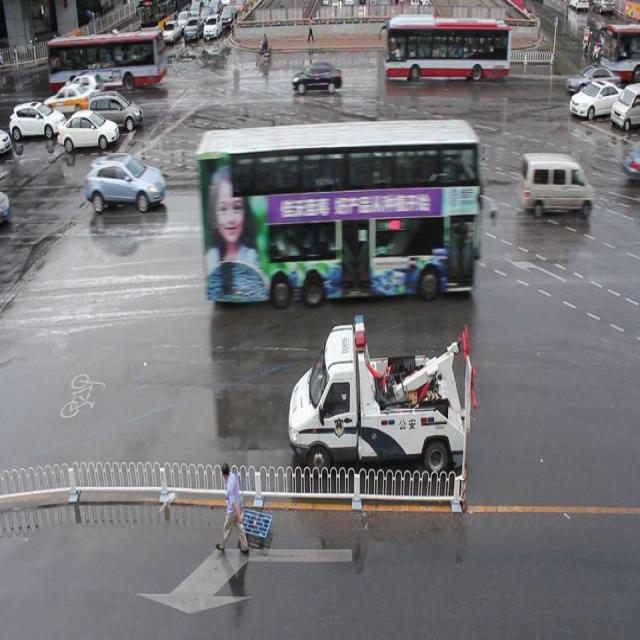car: (86, 154, 166, 211), (399, 154, 469, 212), (568, 80, 625, 118), (292, 62, 342, 94)
truck: (519, 150, 595, 219)
van: (200, 120, 478, 298), (385, 16, 510, 80)
